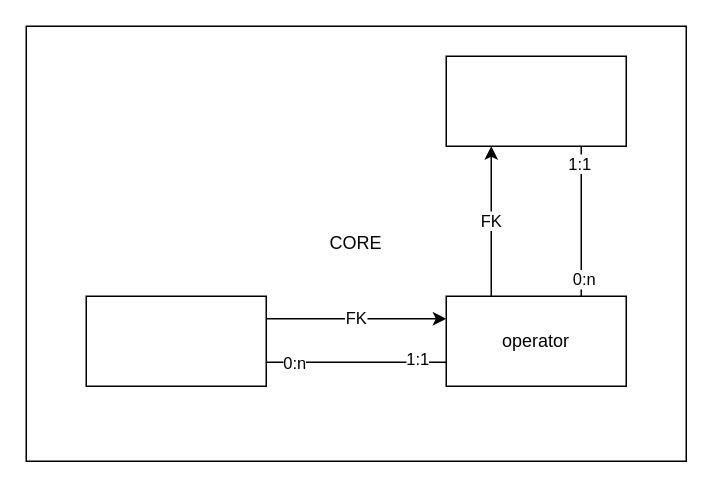
Image size: 713x488. Some labels were removed from this diagram. Here are the shapes that lost their labels. From the top down, the box of each, then its label:
(445, 55, 626, 146): message
(85, 295, 266, 386): broker
